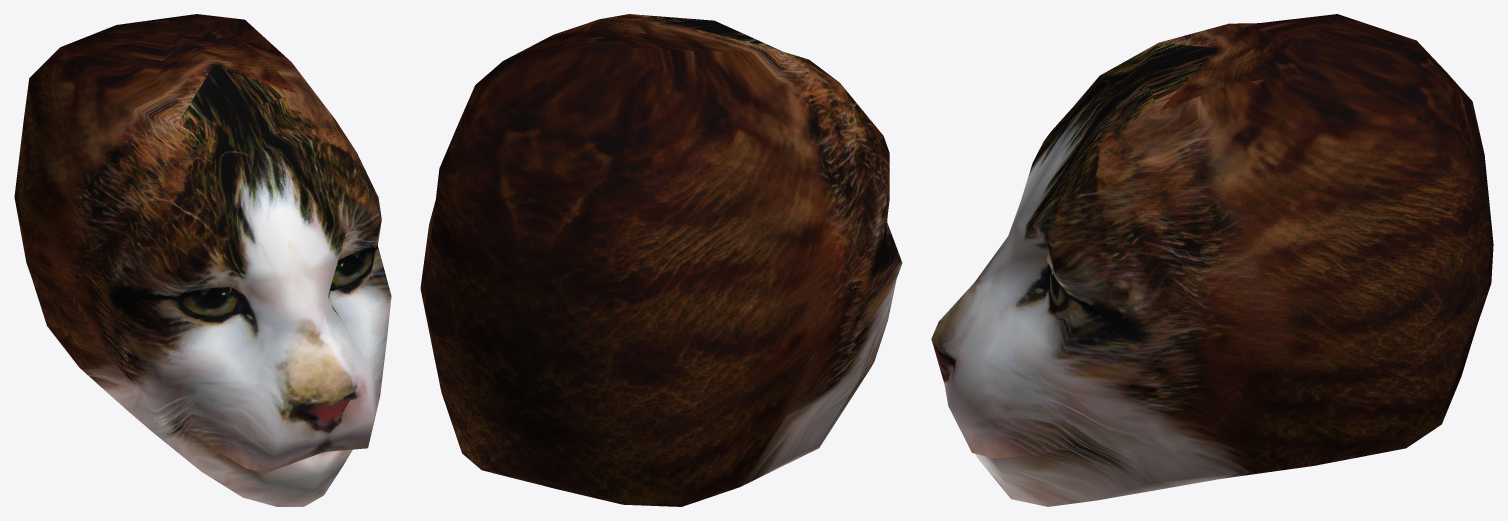
File: b_n_khajiit_f_head_04.glb
The picture shows the model from 3 angles, left to right: view 1: azimuth 30°, elevation 25°; view 2: azimuth 150°, elevation 25°; view 3: azimuth 270°, elevation 25°; orthographic projection. The views are drawn at different scales.
Visible parts, largest first — view 1: Tri B_N_Khajiit_F_Head_04; view 2: Tri B_N_Khajiit_F_Head_04; view 3: Tri B_N_Khajiit_F_Head_04.
Boxes of the visible parts, <box> form: Tri B_N_Khajiit_F_Head_04: <box>14,14,391,506</box>; Tri B_N_Khajiit_F_Head_04: <box>420,14,902,506</box>; Tri B_N_Khajiit_F_Head_04: <box>931,14,1493,506</box>.
Size of the model in its own units: 0.0983 by 0.1327 by 0.15.
1 material, 1 textured.
